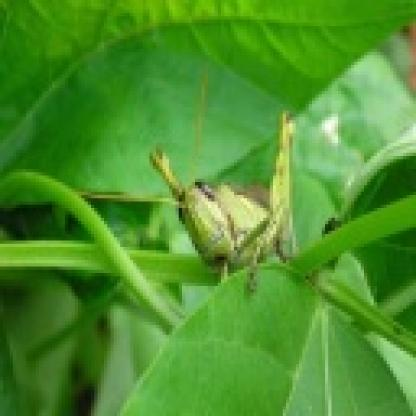grasshopper: (136, 110, 352, 286)
